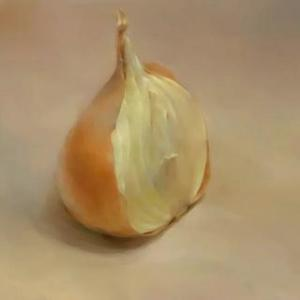onion: (52, 14, 212, 244)
